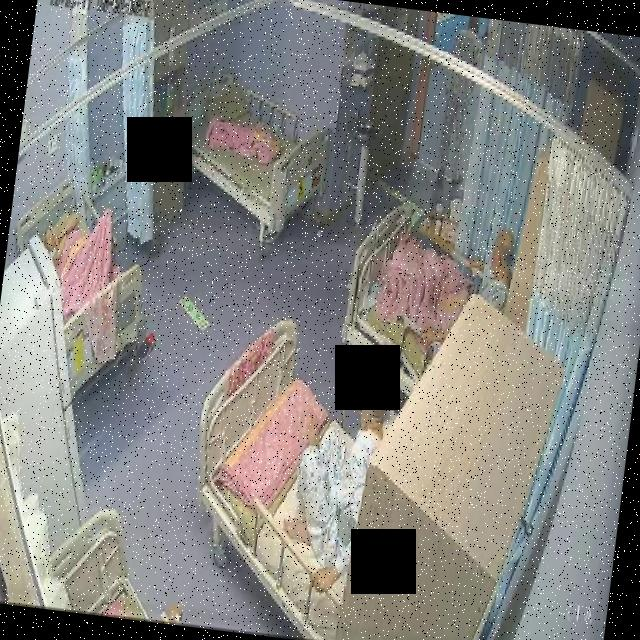bed: (174, 314, 406, 640), (0, 173, 161, 403), (338, 205, 492, 402), (174, 65, 334, 239)
patient: (274, 352, 395, 600), (420, 222, 518, 361), (431, 14, 490, 191)
sit: (276, 349, 396, 600), (369, 216, 517, 358)
